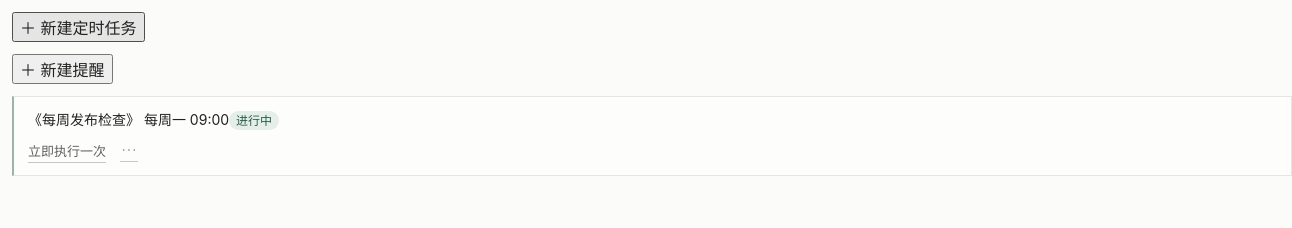
Scenario: A3 Fix 2：「立即执行一次」的失败逐类指名（不再塌成一句话） › 409/冲突（已有在跑的运行或不在进行中）：如实说清，退回单一字符串就红
The image size is (1292, 228).
Step 1. Click the button "立即执行一次" → (67, 151), box x1=28 y1=139 x2=106 y2=163
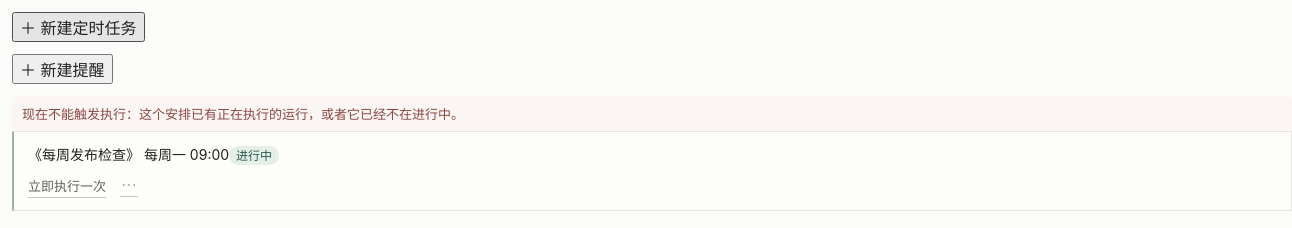
expect the message "现在不能触发执行：这个安排已有正在执行的运行，或者它已经不在进行中。" is shown: met, box x1=12 y1=96 x2=1291 y2=131
